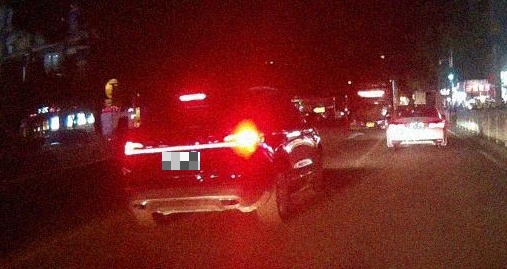L_light: (124, 141, 154, 156), (389, 121, 404, 127)
R_light: (221, 132, 264, 148), (429, 121, 444, 127)
T_light: (179, 93, 205, 102), (412, 107, 421, 109)
night-no: (386, 103, 447, 149)
night-right: (120, 87, 269, 225)
plate_1: (162, 152, 200, 170)
